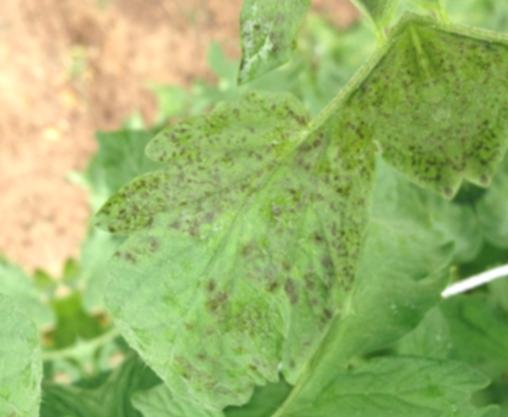Tomato Septoria leaf spot: (69, 78, 423, 417), (314, 0, 475, 235), (189, 0, 396, 81)
